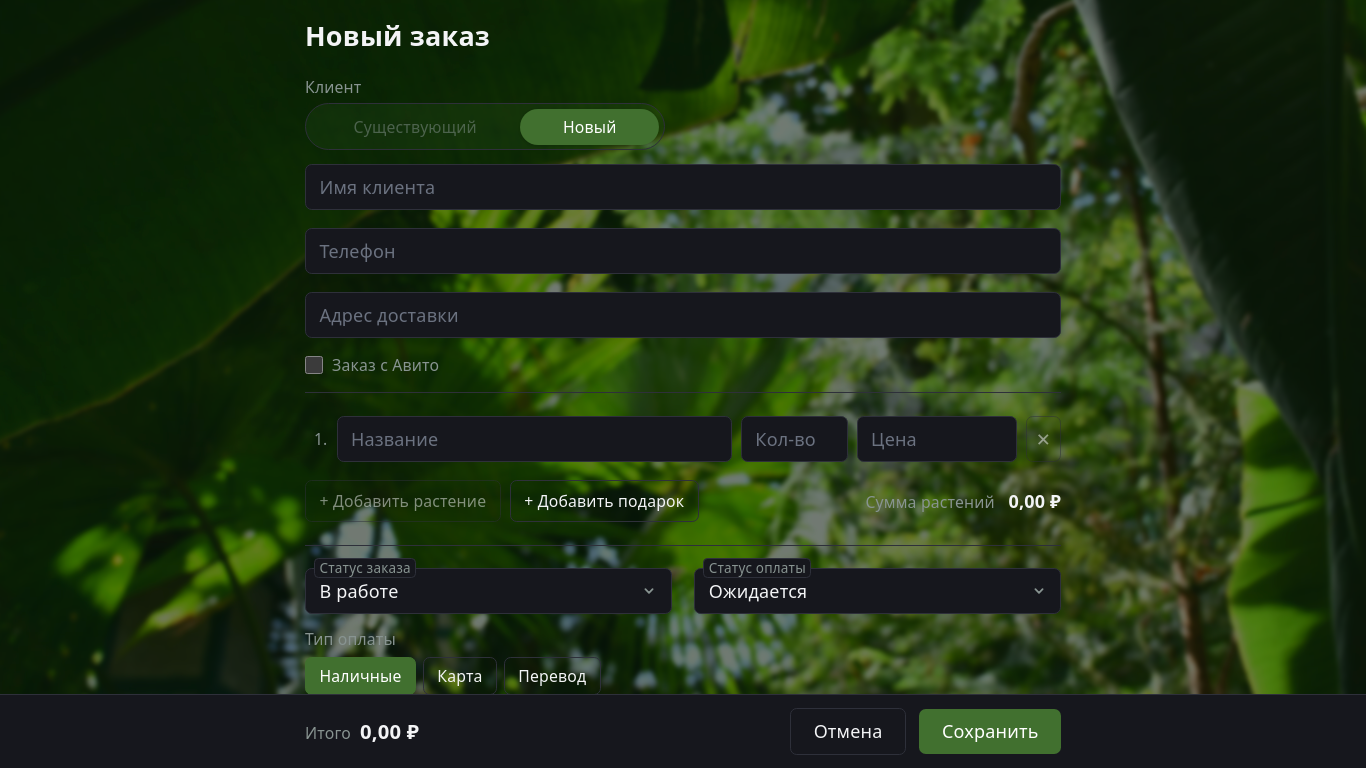
it: NewOrderPage › requires at least one named plant
Type "Борис" into the field labelled "Имя клиента". click: (683, 187)
box: top-left (305, 164), bottom-right (1061, 210)
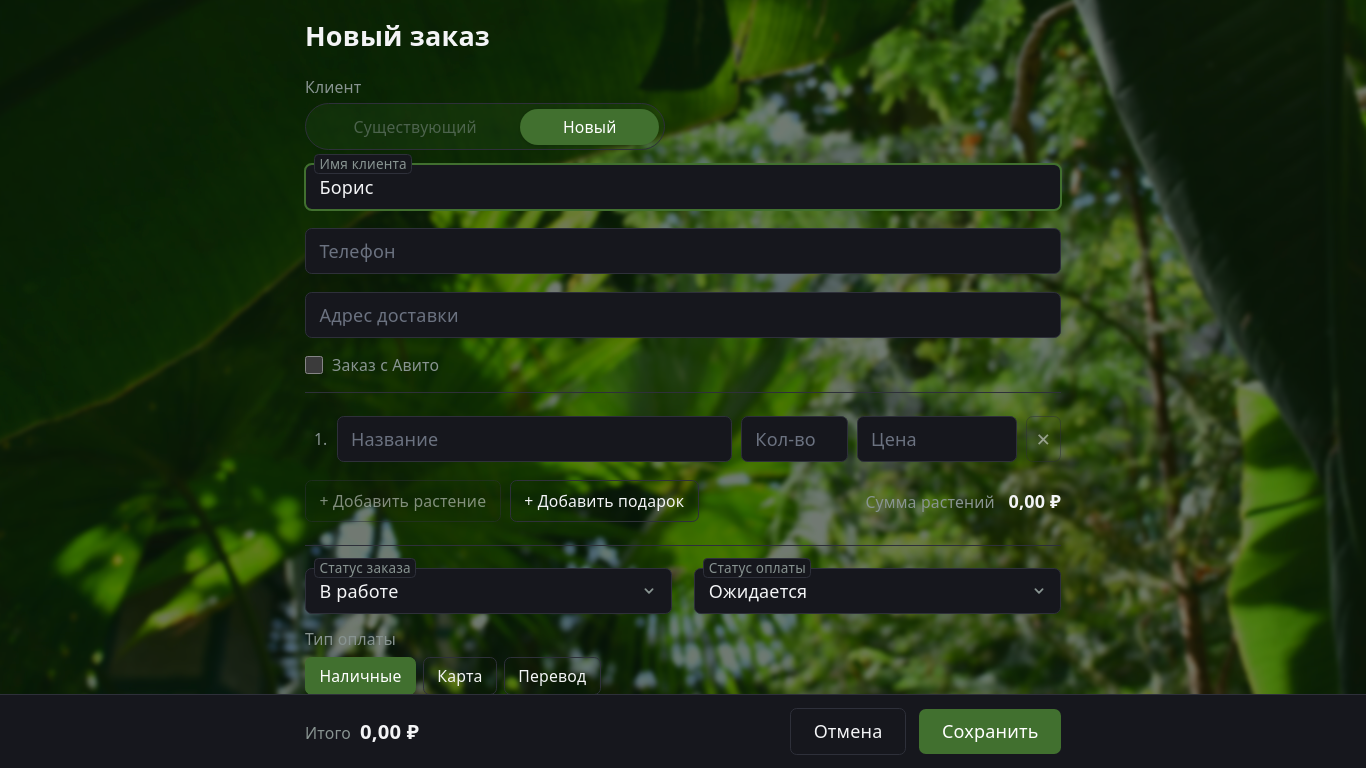
Click the button "Сохранить". click: (990, 731)
box: top-left (920, 709), bottom-right (1061, 754)
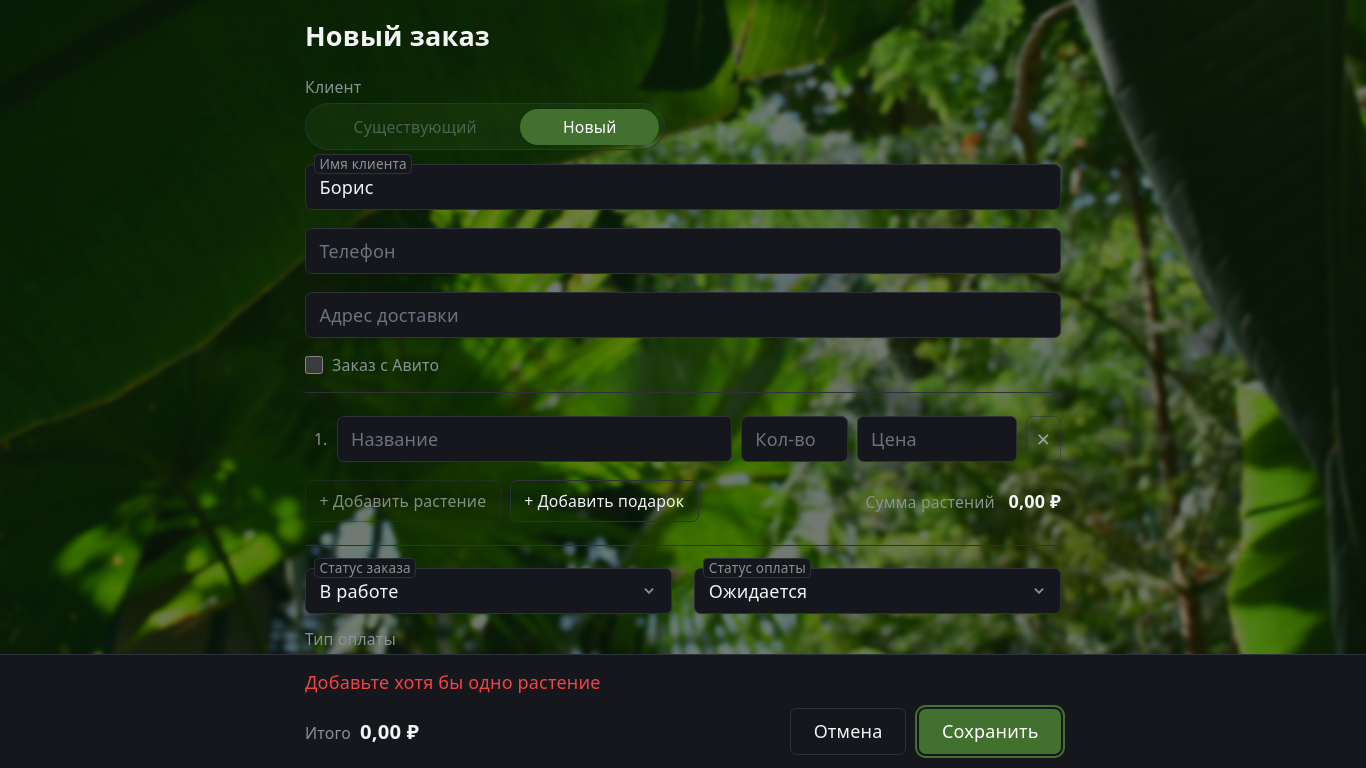
Expected: the message reads "Добавьте хотя бы одно растение", top-left (305, 670), bottom-right (601, 694)
